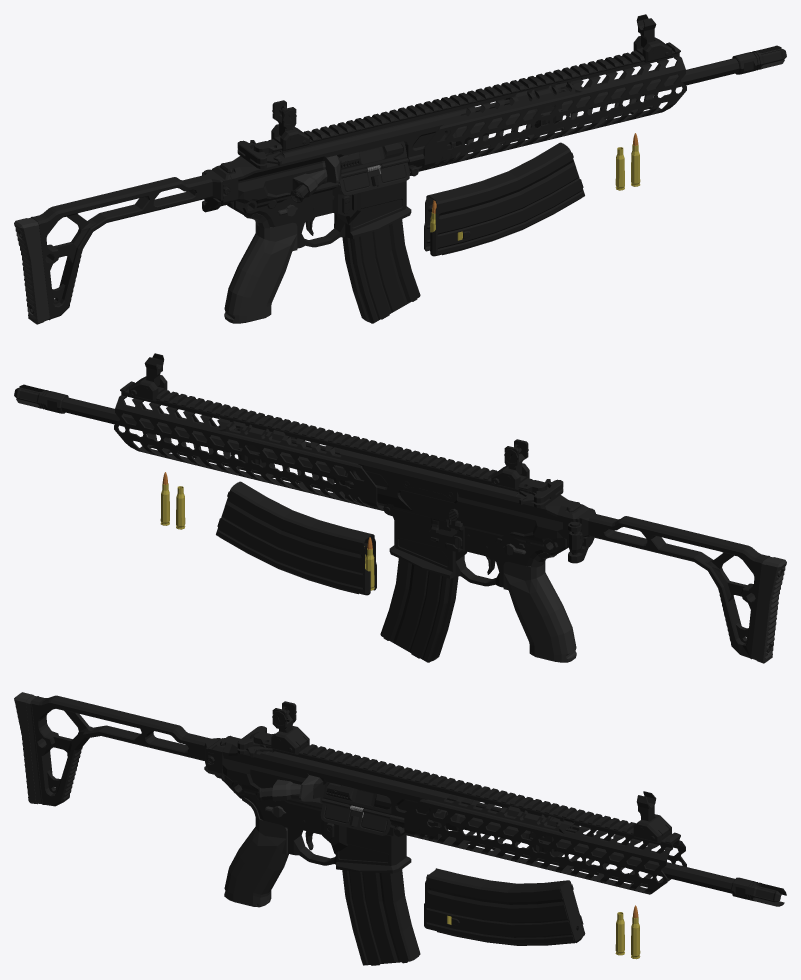
The model's file is gun.glb.
3 views of the same model, one above another, from view 1: azimuth 30°, elevation 25°; view 2: azimuth 150°, elevation 25°; view 3: azimuth 330°, elevation 25° (orthographic).
Visible parts, largest first — view 1: mcx upper receiver_5, mcx handguard gen1_18, 55645 ar15 30rnd mag (steel)_2, mcx stock folding (skeleton)_17, mcx lower receiver_10, 55645 ar15 30rnd mag empty (steel)_0, mcx pistol grip gen1_15, mcx barrel 16_4, mcx dust cover_14, sig rear iron sight_21, sig front iron sight_22, mcx flash hider_20 (+3 smaller); view 2: mcx upper receiver_5, mcx handguard gen1_18, 55645 ar15 30rnd mag (steel)_2, mcx stock folding (skeleton)_17, mcx lower receiver_10, 55645 ar15 30rnd mag empty (steel)_0, mcx pistol grip gen1_15, mcx barrel 16_4, sig rear iron sight_21, sig front iron sight_22, mcx flash hider_20, mcx stock base_16 (+1 smaller); view 3: mcx upper receiver_5, mcx handguard gen1_18, 55645 ar15 30rnd mag (steel)_2, mcx stock folding (skeleton)_17, mcx lower receiver_10, 55645 ar15 30rnd mag empty (steel)_0, mcx pistol grip gen1_15, mcx barrel 16_4, mcx dust cover_14, sig rear iron sight_21, sig front iron sight_22, mcx flash hider_20 (+3 smaller).
Boxes of the visible parts, x1=… form: mcx upper receiver_5: x1=253, y1=69, x2=575, y2=202; mcx handguard gen1_18: x1=417, y1=42, x2=686, y2=171; 55645 ar15 30rnd mag (steel)_2: x1=424, y1=142, x2=584, y2=256; mcx stock folding (skeleton)_17: x1=14, y1=169, x2=223, y2=324; mcx lower receiver_10: x1=220, y1=156, x2=418, y2=248; 55645 ar15 30rnd mag empty (steel)_0: x1=342, y1=219, x2=420, y2=323; mcx pistol grip gen1_15: x1=224, y1=213, x2=297, y2=323; mcx barrel 16_4: x1=448, y1=58, x2=739, y2=145; mcx dust cover_14: x1=339, y1=158, x2=409, y2=195; sig rear iron sight_21: x1=271, y1=100, x2=309, y2=150; sig front iron sight_22: x1=633, y1=14, x2=671, y2=62; mcx flash hider_20: x1=732, y1=45, x2=786, y2=74; mcx upper receiver_5: x1=225, y1=408, x2=547, y2=538; mcx handguard gen1_18: x1=114, y1=381, x2=383, y2=510; 55645 ar15 30rnd mag (steel)_2: x1=216, y1=481, x2=376, y2=595; mcx stock folding (skeleton)_17: x1=569, y1=509, x2=786, y2=663; mcx lower receiver_10: x1=383, y1=495, x2=580, y2=587; 55645 ar15 30rnd mag empty (steel)_0: x1=380, y1=558, x2=458, y2=662; mcx pistol grip gen1_15: x1=503, y1=552, x2=576, y2=662; mcx barrel 16_4: x1=61, y1=397, x2=346, y2=484; sig rear iron sight_21: x1=491, y1=439, x2=529, y2=489; sig front iron sight_22: x1=129, y1=353, x2=167, y2=401; mcx flash hider_20: x1=14, y1=384, x2=68, y2=413; mcx stock base_16: x1=563, y1=504, x2=594, y2=563; mcx upper receiver_5: x1=244, y1=732, x2=574, y2=840; mcx handguard gen1_18: x1=404, y1=799, x2=686, y2=894; 55645 ar15 30rnd mag (steel)_2: x1=424, y1=868, x2=585, y2=945; mcx stock folding (skeleton)_17: x1=14, y1=692, x2=224, y2=806; mcx lower receiver_10: x1=220, y1=735, x2=411, y2=873; 55645 ar15 30rnd mag empty (steel)_0: x1=342, y1=869, x2=420, y2=965; mcx pistol grip gen1_15: x1=224, y1=797, x2=288, y2=907; mcx barrel 16_4: x1=429, y1=802, x2=734, y2=893; mcx dust cover_14: x1=320, y1=798, x2=391, y2=835; sig rear iron sight_21: x1=271, y1=701, x2=309, y2=754; sig front iron sight_22: x1=633, y1=791, x2=671, y2=843; mcx flash hider_20: x1=731, y1=877, x2=786, y2=906.
Size of the model in its own units: 8.88 by 2.61 by 0.7306.
